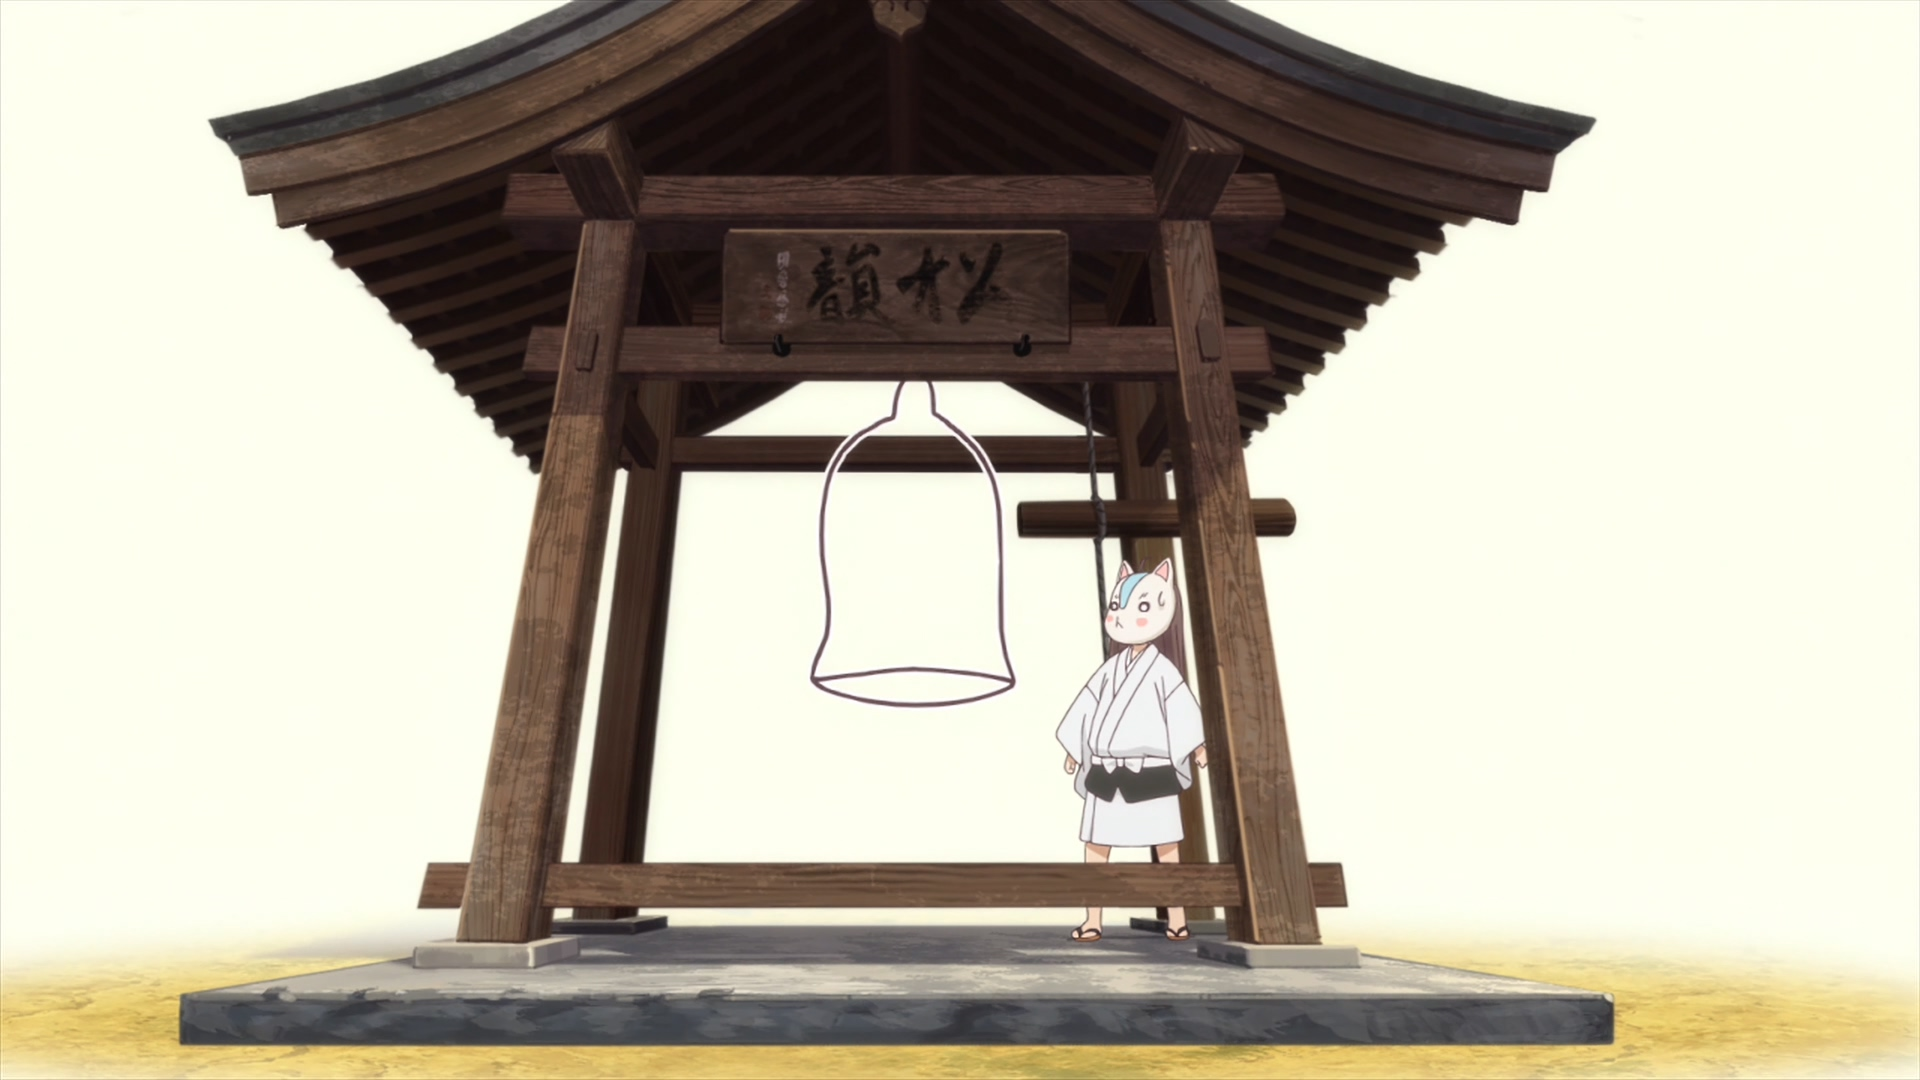其他: (1058, 560, 1207, 942)
